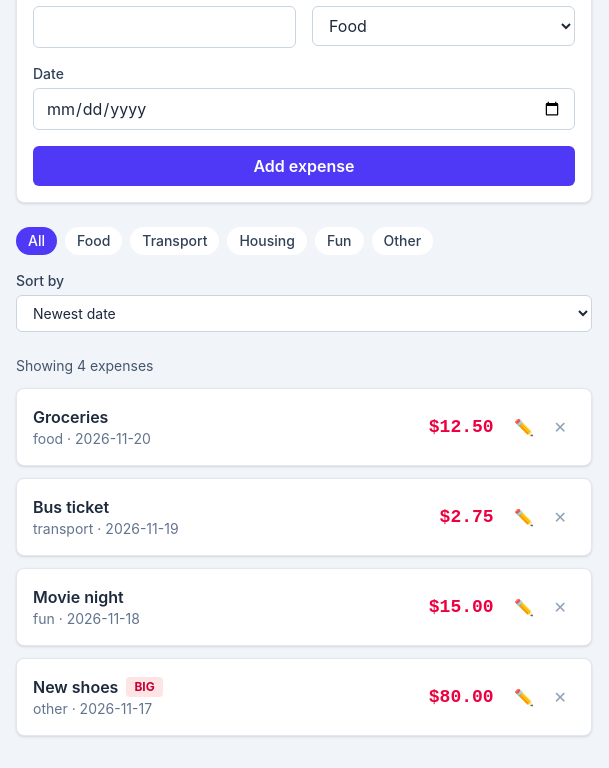
it: App › edits an expense in place and updates the total
(page scrolled)
Click the button named "Edit Groceries" at x=524, y=427, box [506,411,542,443]
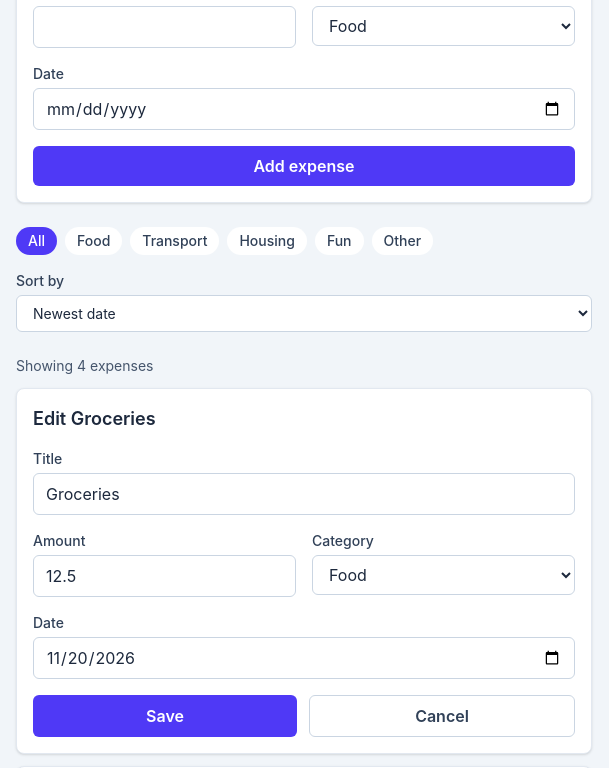
Replace the text in the field labelled "Title" with "Supermarket" at x=304, y=494, box [33,473,575,515]
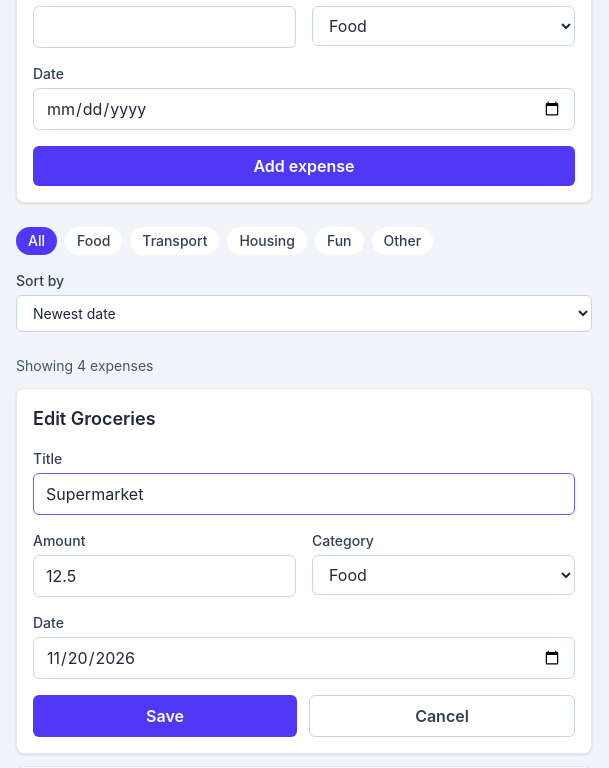
Replace the text in the number field labelled "Amount" below "Edit Groceries" with "20" at x=164, y=576, box [33,555,296,597]
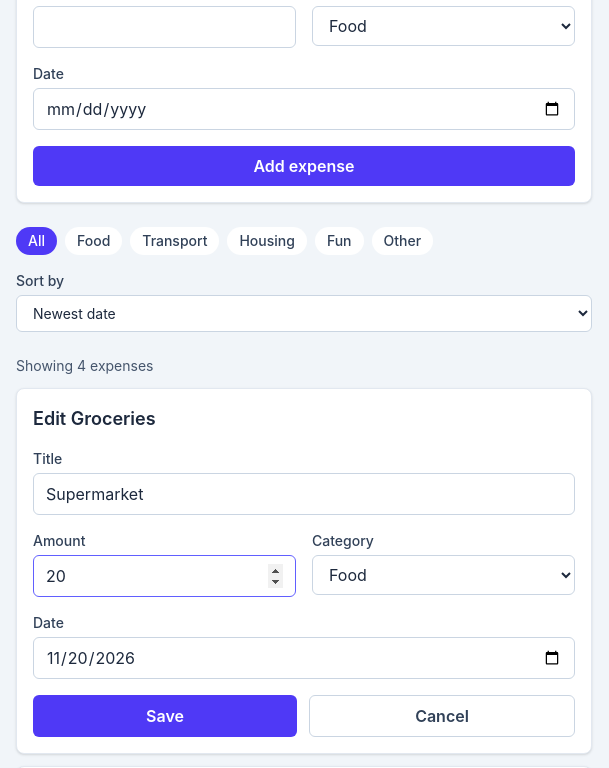
Click the button "Save" at x=165, y=716, box [33,695,297,737]
(page scrolled)
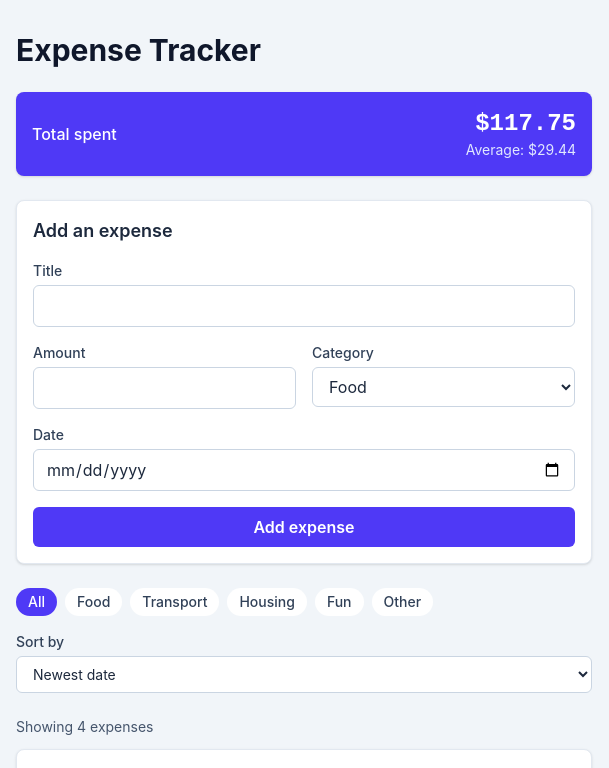
expect the text "Showing 4 expenses" is shown: met, box [16,718,154,735]
expect the heading "Groceries" is gone: met
expect the text "$117.75" is shown: met, box [466,108,576,140]
